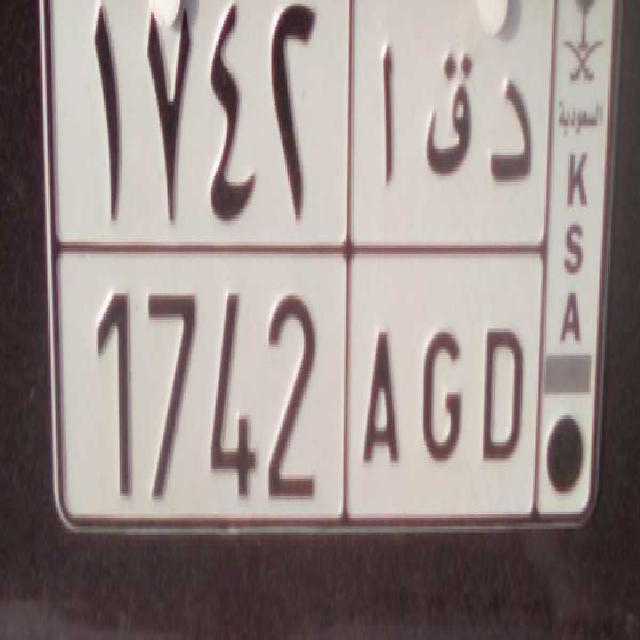license_plate: (52, 240, 540, 519)
